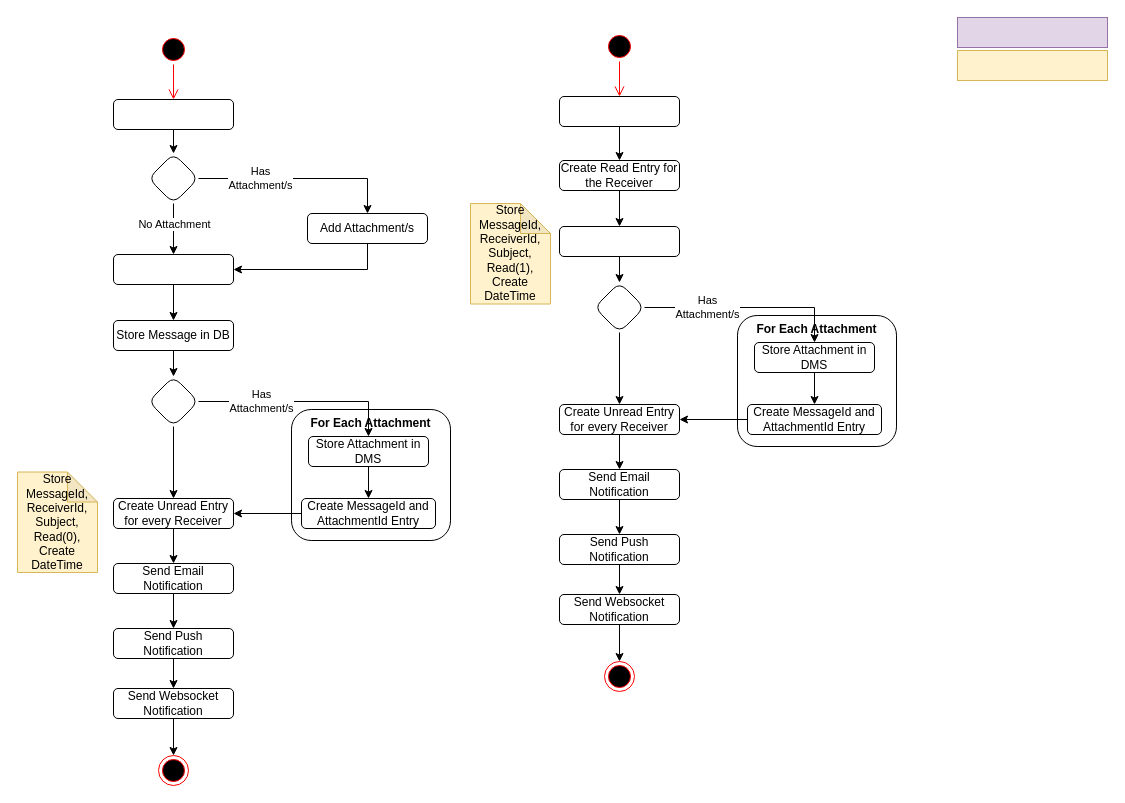
Some shapes in this 1125 by 803 pixel diagram are drawn without their labels. Here are the shapes that lost their labels. From the top down, the centre of each, then its label:
pixel 1032 32: BEHAVIORAL DIAGRAM
pixel 1032 65: USE CASE DIAGRAM
pixel 173 114: Create Message
pixel 619 111: Request Message
pixel 619 241: Retrieve Message from DB
pixel 173 269: Send Message
